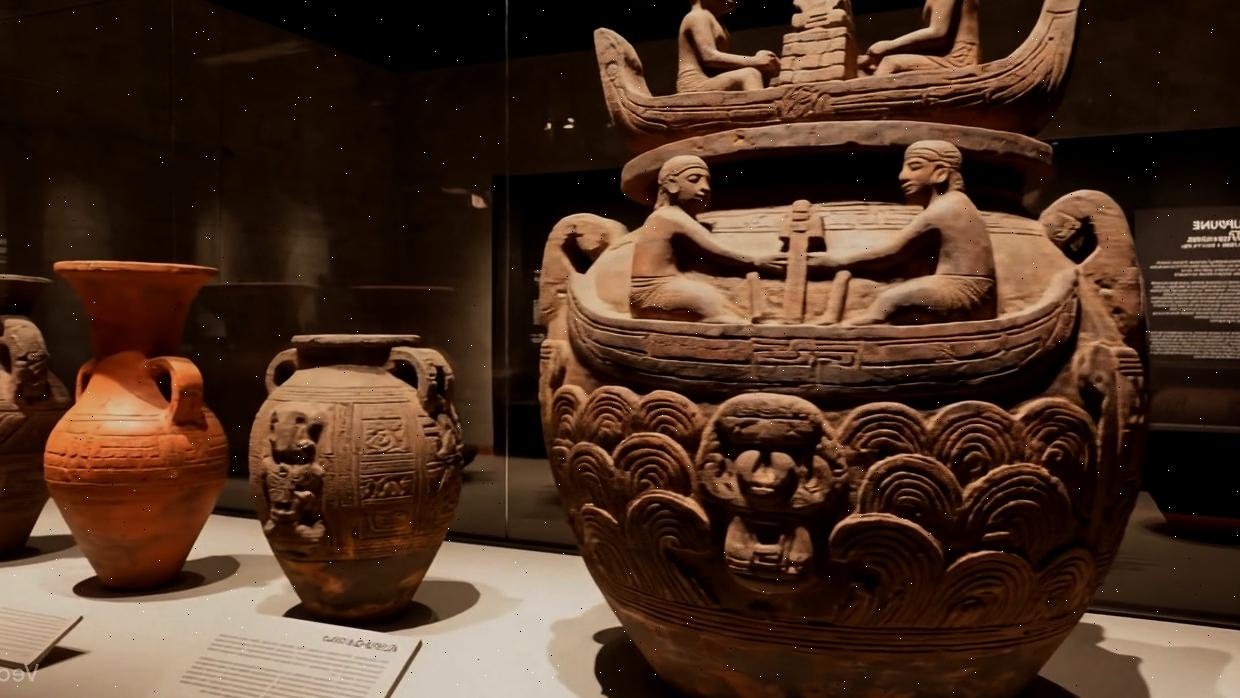manunggul_jar: (523, 0, 1155, 698)
